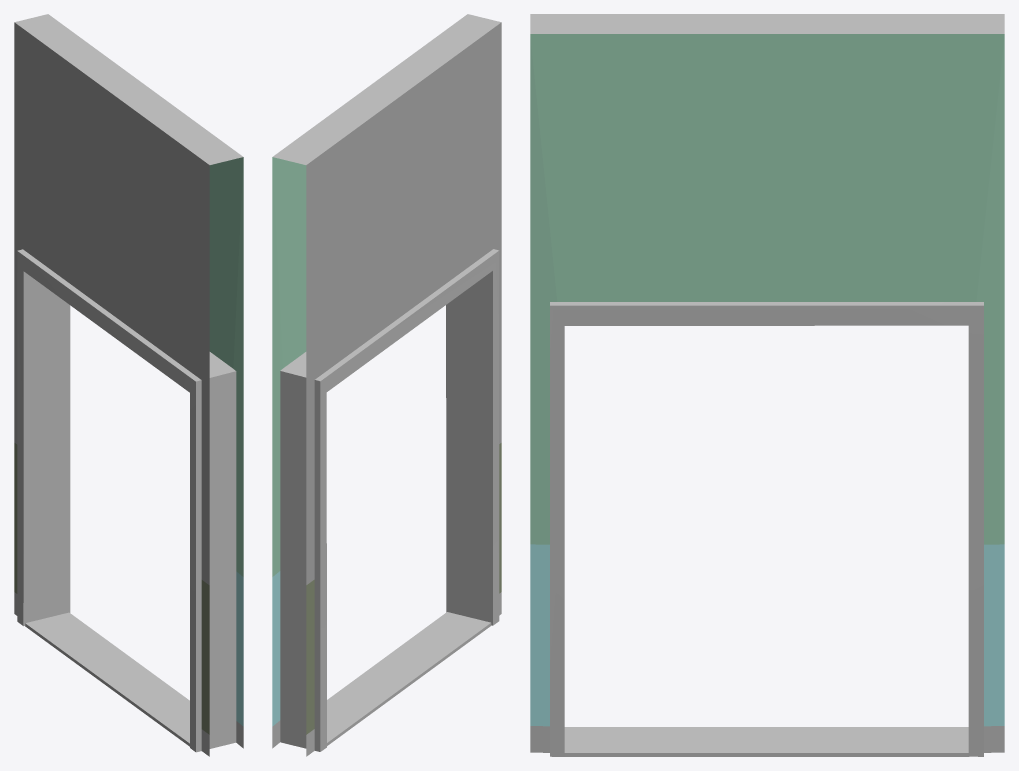
The model's file is SM_DoorFrame_B_200.fbx.
The picture shows the model from 3 angles, left to right: view 1: azimuth 30°, elevation 25°; view 2: azimuth 150°, elevation 25°; view 3: azimuth 270°, elevation 25°; orthographic projection. The views are drawn at different scales.
Parts seen in each view (by area): view 1: SM_DoorFrame_B_200; view 2: SM_DoorFrame_B_200; view 3: SM_DoorFrame_B_200.
Boxes of the visible parts, x1,y1,x2,y2 form: SM_DoorFrame_B_200: (14, 14, 243, 756); SM_DoorFrame_B_200: (272, 14, 501, 756); SM_DoorFrame_B_200: (530, 14, 1004, 756).
Bounding box in the file's own units: 27.86 × 335 × 200.
